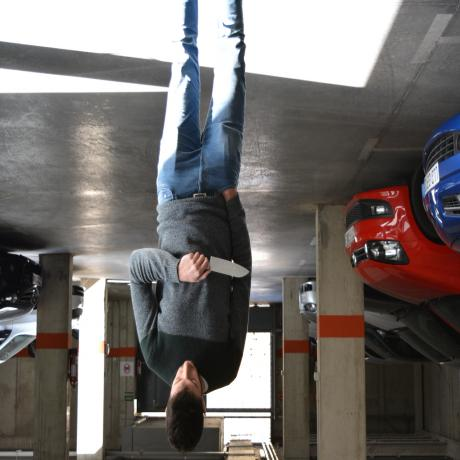1: (132, 0, 261, 449)
weapon: (176, 251, 250, 281)
